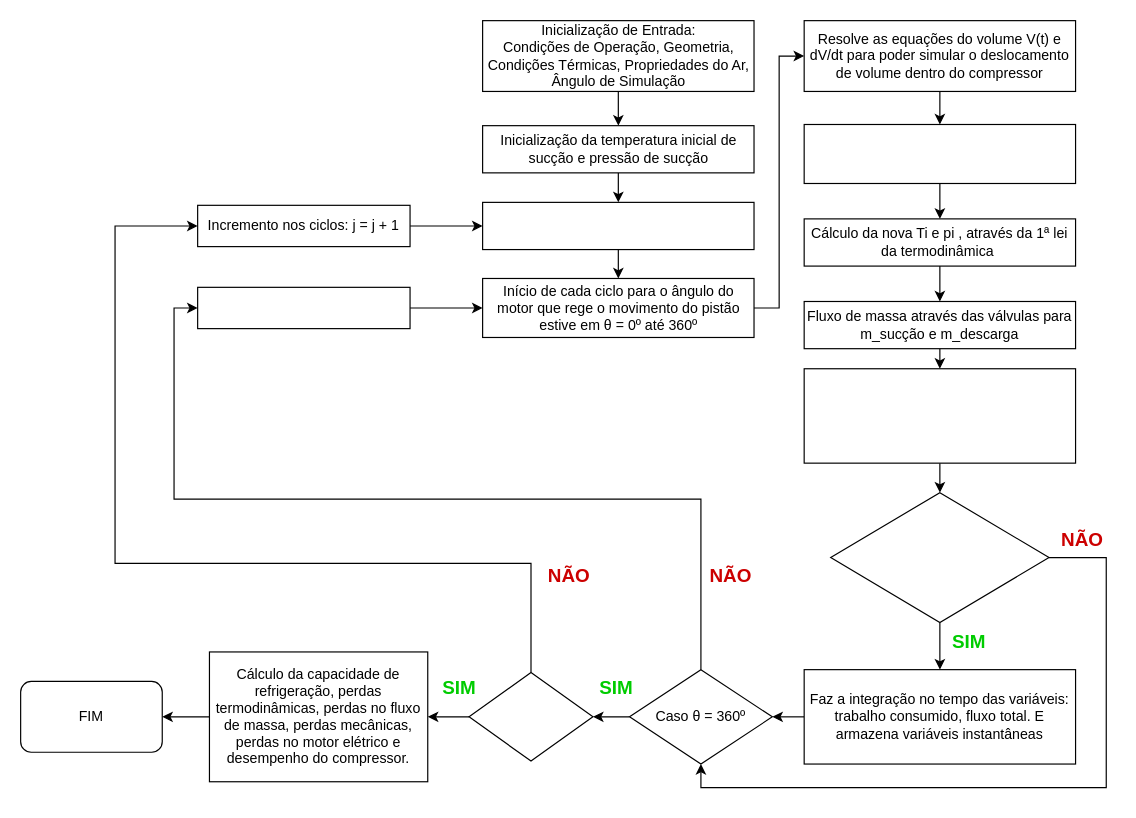
Image size: 1136x818. Some labels were removed from this diagram. The shapes that lost their labels are listed below. From the top down, each one's box as (x1, y1, x2, y2) in pixels, then its label:
(803, 123, 1076, 183): Cálculo das variáveis termodinâmica necessárias para o cálculo da nova Ti e pi
(481, 201, 754, 250): Início dos ciclos de compressão: Fazer j = 1 até N, N = Número total de ciclos
(196, 286, 410, 329): Incremento no ângulo θ = θ + ∆θ
(803, 368, 1076, 463): Cálculo do balanço de massa: m_(i) = m_(i-1) + (m_(sucção) – m_(descarga) )∆t
(830, 491, 1049, 622): Caso j = N (Último ciclo)
(468, 671, 593, 761): Caso j = N
